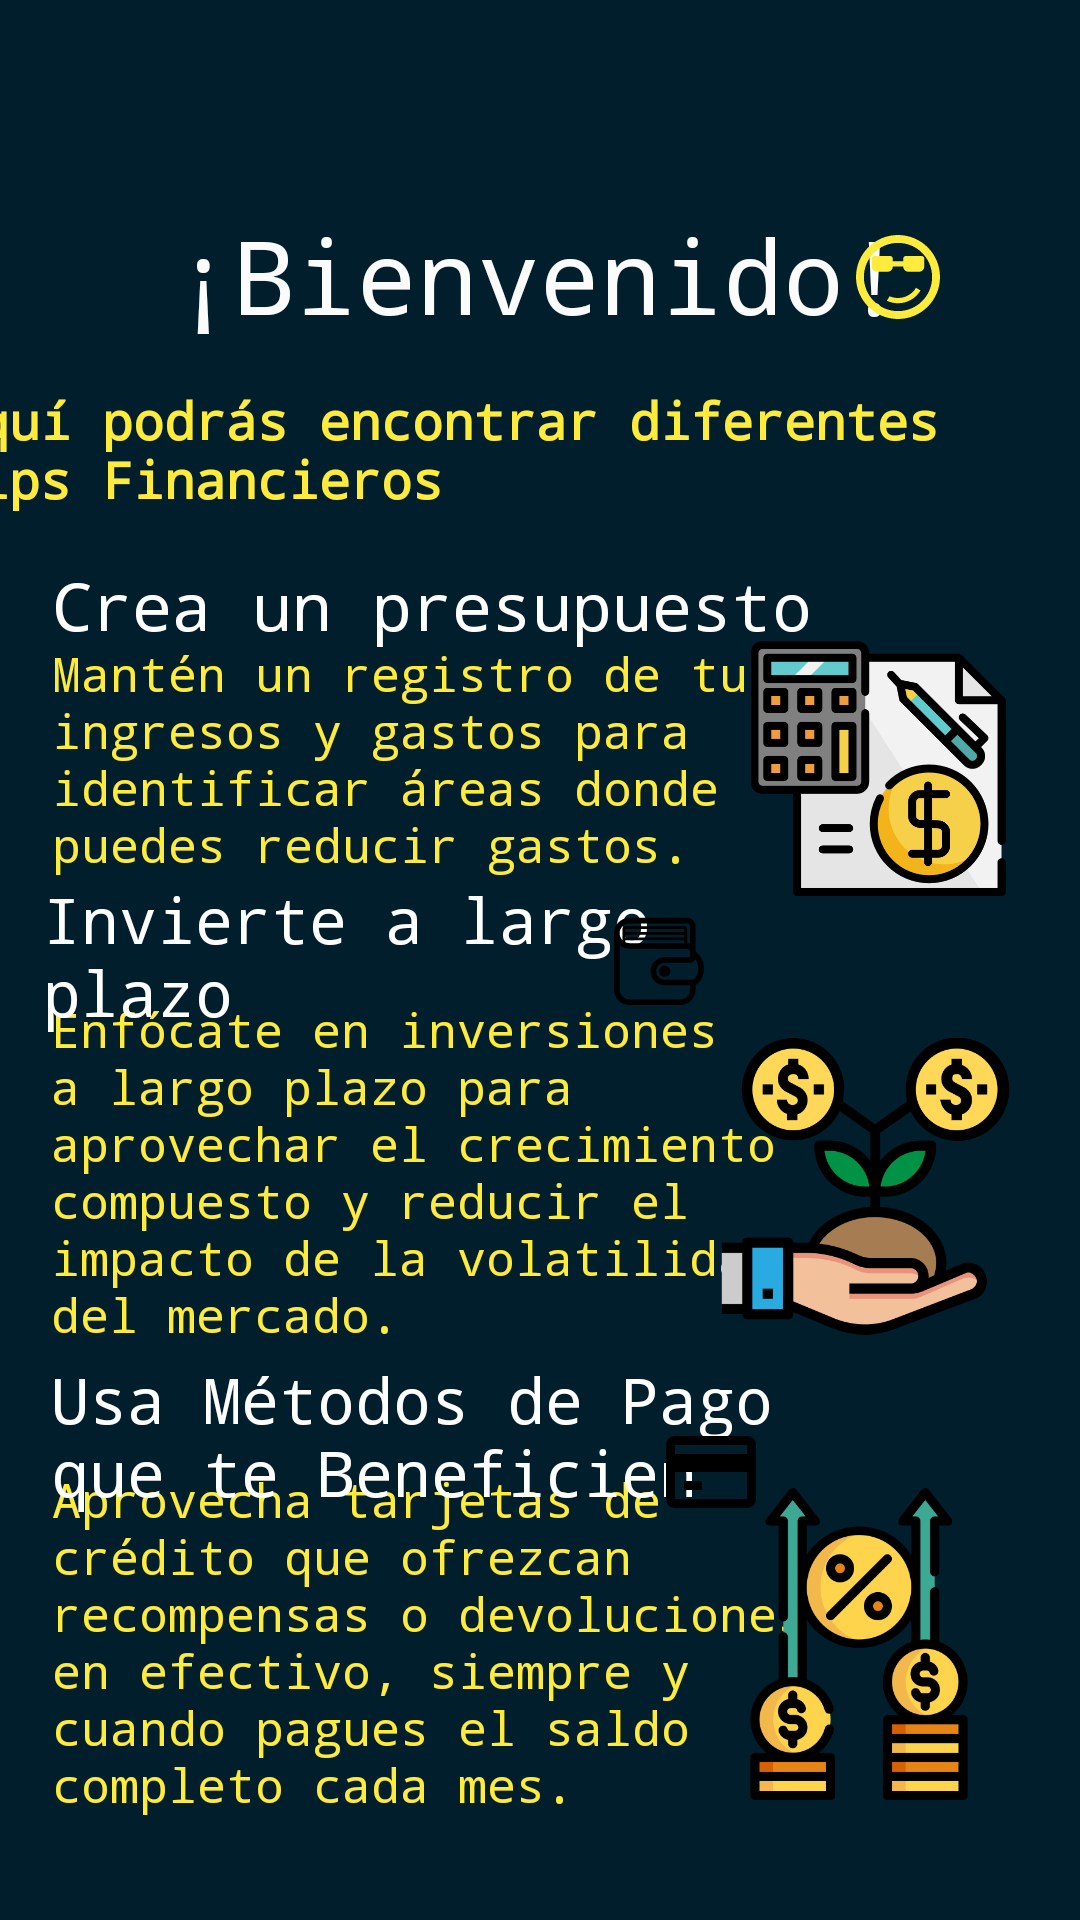

Icon click points for this 1080w x 1920h phone screenshot, format (x=x, y=y):
cool: (x=898, y=277)
credit card: (x=705, y=1472)
wallet: (x=655, y=960)
